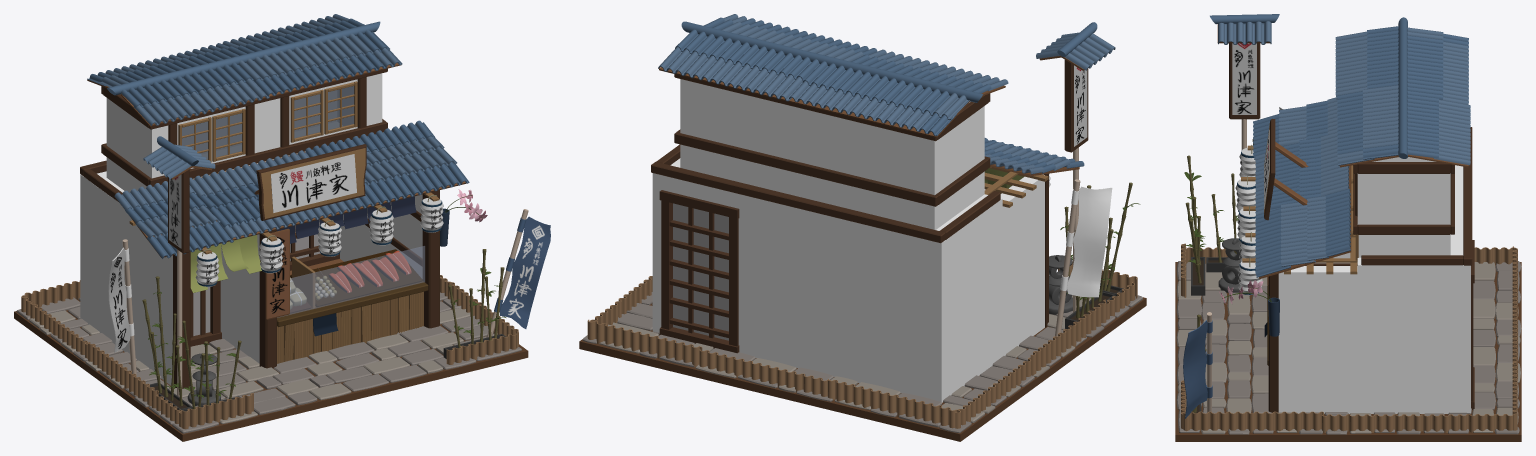
The model's file is sushishop.gltf.
3 renders of one model, left to right at view 1: azimuth 30°, elevation 25°; view 2: azimuth 150°, elevation 25°; view 3: azimuth 270°, elevation 25°, orthographic. The views are drawn at different scales.
Visible parts, largest first — view 1: pCube52, pCube4, pCube48, pCube1, polySurface53, pCube112, pCube83, pCube154, pCube42, polySurface498, polySurface647, polySurface649 (+57 smaller); view 2: pCube52, pCube4, pCube1, pCube83, pCube62, polySurface535, polySurface260, polySurface653, polySurface655, pCube53, polySurface654, polySurface652 (+26 smaller); view 3: pCube52, pCube4, pCube1, pCube83, polySurface241, polySurface242, pCube62, polySurface653, polySurface647, polySurface655, polySurface649, polySurface654 (+63 smaller).
Boxes of the visible parts, x1,y1,x2,y2 form: pCube52: [80, 181, 422, 385]; pCube4: [106, 73, 382, 192]; pCube48: [277, 246, 424, 317]; pCube1: [14, 299, 528, 441]; polySurface53: [277, 291, 423, 363]; pCube112: [173, 190, 439, 388]; pCube83: [101, 68, 387, 186]; pCube154: [270, 154, 356, 212]; pCube42: [220, 234, 259, 363]; polySurface498: [500, 216, 550, 328]; polySurface647: [238, 33, 373, 81]; polySurface649: [133, 78, 269, 125]; pCube52: [652, 174, 1044, 402]; pCube4: [680, 79, 984, 229]; pCube1: [579, 297, 1146, 441]; pCube83: [674, 74, 990, 206]; pCube62: [651, 144, 1000, 243]; polySurface535: [673, 203, 728, 340]; polySurface260: [1067, 186, 1112, 297]; polySurface653: [802, 61, 949, 115]; polySurface655: [658, 47, 802, 101]; pCube53: [652, 158, 1002, 250]; polySurface654: [675, 29, 819, 80]; polySurface652: [789, 81, 931, 131]; pCube52: [1278, 266, 1470, 413]; pCube4: [1357, 157, 1450, 257]; pCube1: [1175, 262, 1521, 441]; pCube83: [1353, 162, 1454, 234]; polySurface241: [1183, 411, 1323, 432]; polySurface242: [1321, 414, 1462, 432]; pCube62: [1361, 127, 1472, 265]; polySurface653: [1407, 35, 1443, 99]; polySurface647: [1363, 85, 1398, 148]; polySurface655: [1433, 99, 1470, 165]; polySurface649: [1335, 31, 1367, 99]; polySurface654: [1407, 94, 1439, 158].
Size of the model in its own units: 19.71 by 12.58 by 14.59.
50 materials, 6 textured.
